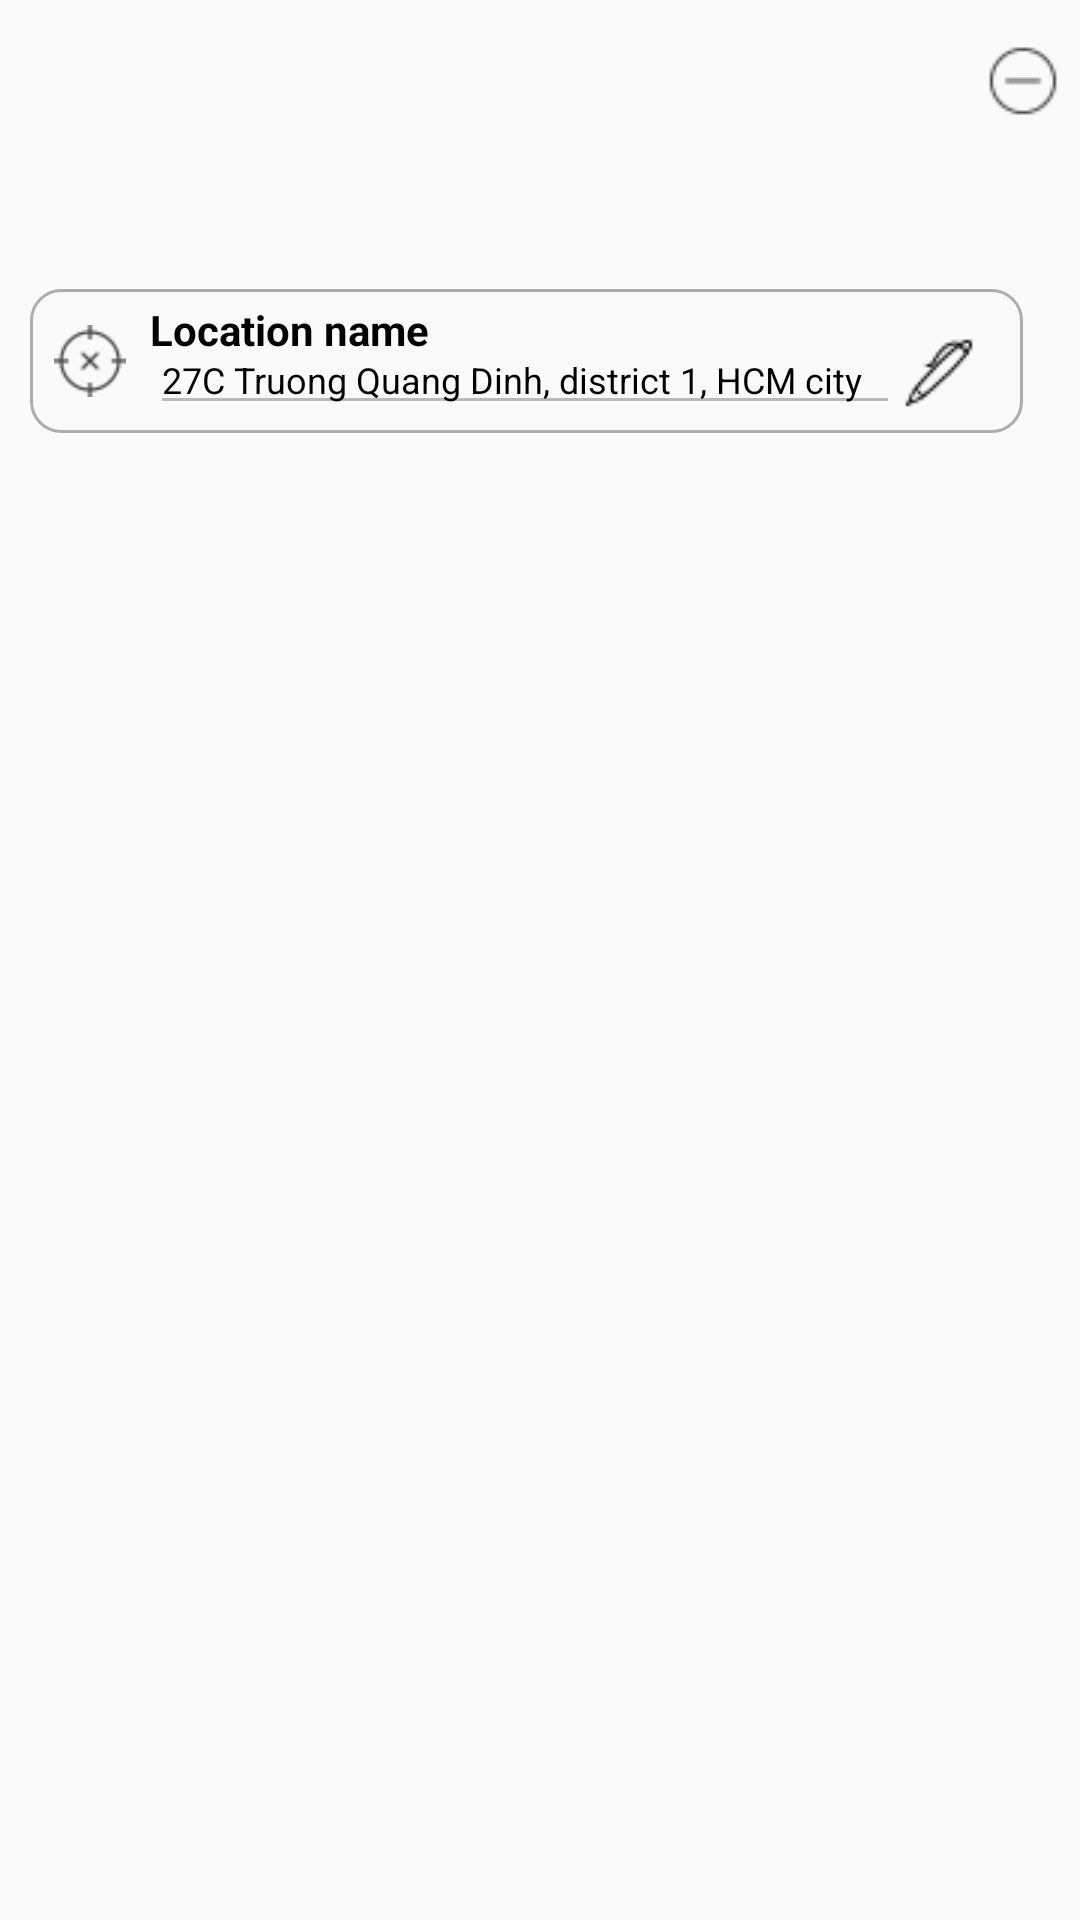

Screen size 1080 x 1920. Icon name, then its center in pixels as (x,y):
ball point pen: (939,373)
location off: (90,361)
minus: (1023,81)
